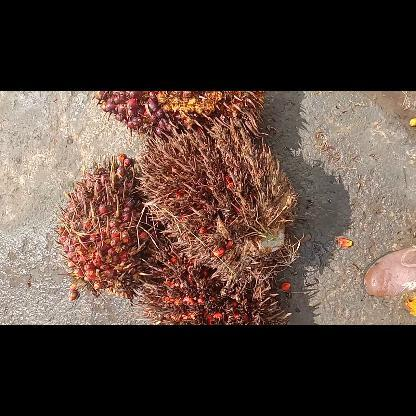TBS masak: (54, 154, 168, 298), (93, 91, 265, 138)
Terlalu masak: (136, 118, 297, 296), (132, 240, 290, 324)
